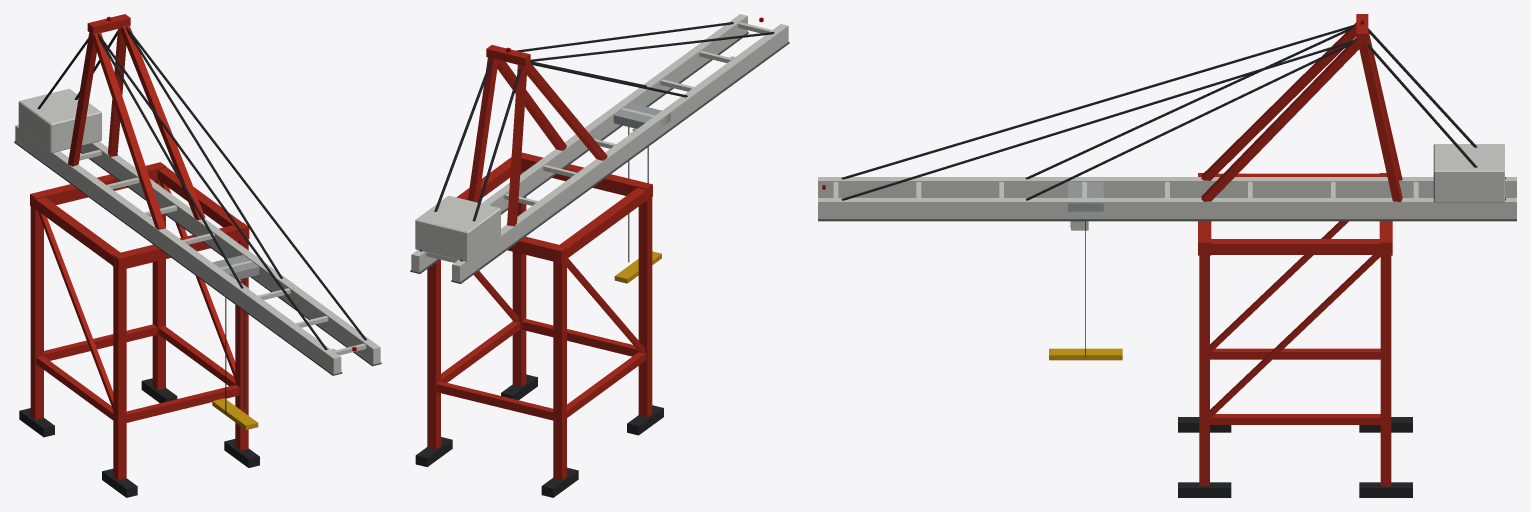
Rendered from portique_sts.glb.
The picture shows the model from 3 angles, left to right: view 1: azimuth 30°, elevation 25°; view 2: azimuth 150°, elevation 25°; view 3: azimuth 270°, elevation 25°; orthographic projection. The views are drawn at different scales.
Parts seen in each view (by area): view 1: portique_sts, chariot; view 2: portique_sts, chariot; view 3: portique_sts, chariot.
Part boxes in pixels (x1,y1,x2,y2): portique_sts: [14, 14, 381, 497]; chariot: [212, 255, 259, 429]; portique_sts: [410, 14, 789, 497]; chariot: [613, 103, 670, 283]; portique_sts: [818, 14, 1516, 497]; chariot: [1049, 182, 1122, 360].
Size of the model in its own units: 28.4 by 81.9 by 118.
